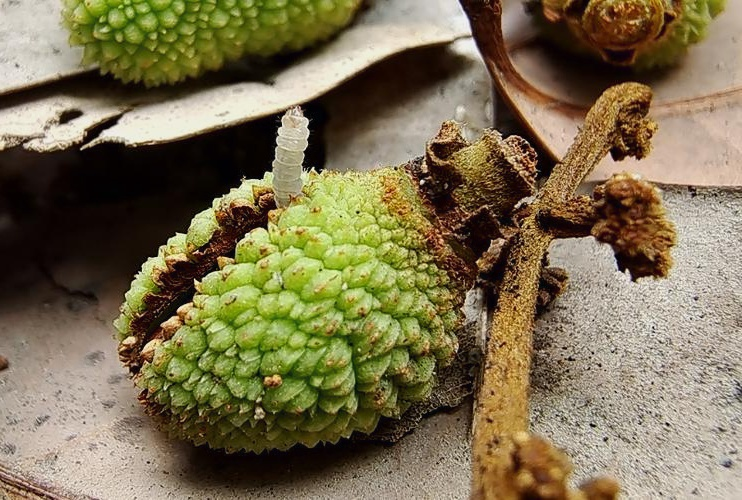Borer: (245, 103, 330, 235)
